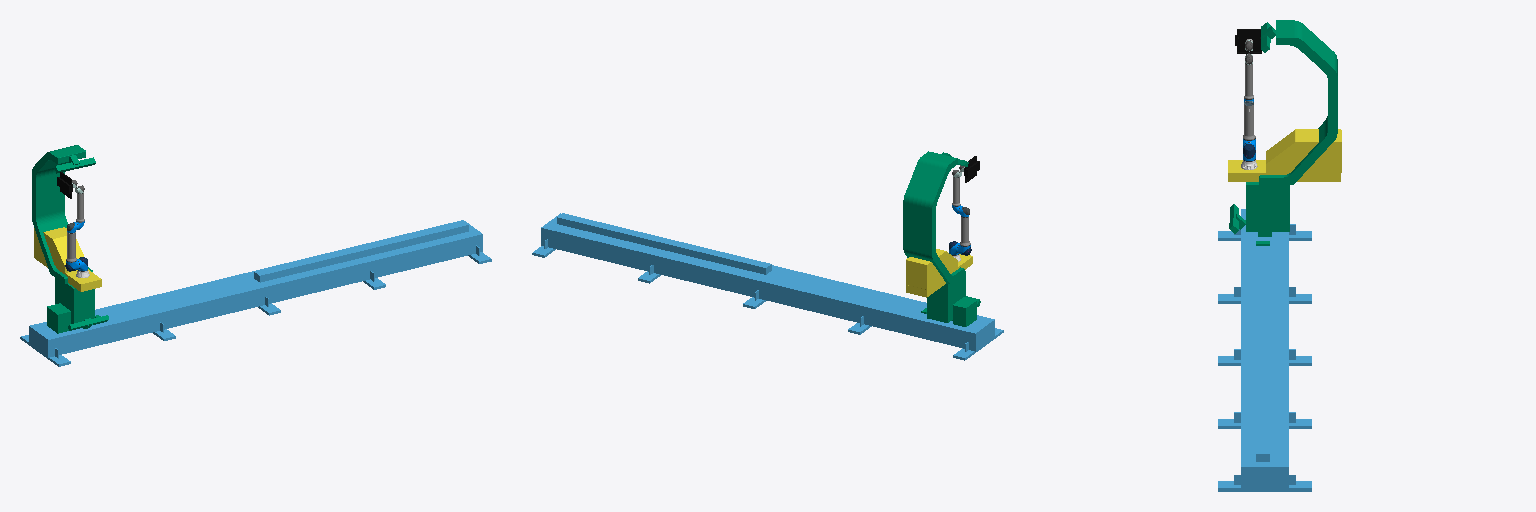
URDF robot description (dda_rb10_1300e):
<?xml version='1.0' encoding='utf-8'?>
<robot name="dda_rb10_1300e">
  <link name="dda_link_base" />
  <link name="dda_link_linear_track">
    <visual>
      <origin xyz="1.36424e-15 4.09273e-15 0.161" rpy="4.75452e-30 0 -1.22465e-16" />
      <geometry>
        <box size="7.208 0.56 0.282" />
      </geometry>
    </visual>
    <collision>
      <origin xyz="1.36424e-15 4.09273e-15 0.161" rpy="4.75452e-30 0 -1.22465e-16" />
      <geometry>
        <box size="7.208 0.56 0.282" />
      </geometry>
    </collision>
    <visual>
      <origin xyz="-3.489 1.36424e-15 -1.74094e-15" rpy="4.75452e-30 0 -1.22465e-16" />
      <geometry>
        <box size="0.2 1.1 0.04" />
      </geometry>
    </visual>
    <collision>
      <origin xyz="-3.489 1.36424e-15 -1.74094e-15" rpy="4.75452e-30 0 -1.22465e-16" />
      <geometry>
        <box size="0.2 1.1 0.04" />
      </geometry>
    </collision>
    <visual>
      <origin xyz="-1.7445 9.09495e-16 -7.50906e-16" rpy="4.75452e-30 0 -1.22465e-16" />
      <geometry>
        <box size="0.2 1.1 0.04" />
      </geometry>
    </visual>
    <collision>
      <origin xyz="-1.7445 9.09495e-16 -7.50906e-16" rpy="4.75452e-30 0 -1.22465e-16" />
      <geometry>
        <box size="0.2 1.1 0.04" />
      </geometry>
    </collision>
    <visual>
      <origin xyz="3.35376e-15 0 -7.48527e-16" rpy="4.75452e-30 0 -1.22465e-16" />
      <geometry>
        <box size="0.2 1.1 0.04" />
      </geometry>
    </visual>
    <collision>
      <origin xyz="3.35376e-15 0 -7.48527e-16" rpy="4.75452e-30 0 -1.22465e-16" />
      <geometry>
        <box size="0.2 1.1 0.04" />
      </geometry>
    </collision>
    <visual>
      <origin xyz="1.7445 -9.09495e-16 -5.93382e-16" rpy="4.75452e-30 0 -1.22465e-16" />
      <geometry>
        <box size="0.2 1.1 0.04" />
      </geometry>
    </visual>
    <collision>
      <origin xyz="1.7445 -9.09495e-16 -5.93382e-16" rpy="4.75452e-30 0 -1.22465e-16" />
      <geometry>
        <box size="0.2 1.1 0.04" />
      </geometry>
    </collision>
    <visual>
      <origin xyz="3.489 -9.09495e-16 9.40989e-15" rpy="4.75452e-30 0 -1.22465e-16" />
      <geometry>
        <box size="0.2 1.1 0.04" />
      </geometry>
    </visual>
    <collision>
      <origin xyz="3.489 -9.09495e-16 9.40989e-15" rpy="4.75452e-30 0 -1.22465e-16" />
      <geometry>
        <box size="0.2 1.1 0.04" />
      </geometry>
    </collision>
    <visual>
      <origin xyz="-3.489 -2.4329e-14 0.085" rpy="1.5708 0 -4.56336e-15" />
      <geometry>
        <box size="0.015 0.13 0.74" />
      </geometry>
    </visual>
    <collision>
      <origin xyz="-3.489 -2.4329e-14 0.085" rpy="1.5708 0 -4.56336e-15" />
      <geometry>
        <box size="0.015 0.13 0.74" />
      </geometry>
    </collision>
    <visual>
      <origin xyz="-1.7445 -1.72804e-14 0.085" rpy="1.5708 0 -4.56336e-15" />
      <geometry>
        <box size="0.015 0.13 0.74" />
      </geometry>
    </visual>
    <collision>
      <origin xyz="-1.7445 -1.72804e-14 0.085" rpy="1.5708 0 -4.56336e-15" />
      <geometry>
        <box size="0.015 0.13 0.74" />
      </geometry>
    </collision>
    <visual>
      <origin xyz="5.79803e-15 -2.52385e-14 0.085" rpy="1.5708 0 -4.56336e-15" />
      <geometry>
        <box size="0.015 0.13 0.74" />
      </geometry>
    </visual>
    <collision>
      <origin xyz="5.79803e-15 -2.52385e-14 0.085" rpy="1.5708 0 -4.56336e-15" />
      <geometry>
        <box size="0.015 0.13 0.74" />
      </geometry>
    </collision>
    <visual>
      <origin xyz="1.7445 -3.31966e-14 0.085" rpy="1.5708 0 -4.56336e-15" />
      <geometry>
        <box size="0.015 0.13 0.74" />
      </geometry>
    </visual>
    <collision>
      <origin xyz="1.7445 -3.31966e-14 0.085" rpy="1.5708 0 -4.56336e-15" />
      <geometry>
        <box size="0.015 0.13 0.74" />
      </geometry>
    </collision>
    <visual>
      <origin xyz="3.489 -4.1382e-14 0.085" rpy="1.5708 0 -4.56336e-15" />
      <geometry>
        <box size="0.015 0.13 0.74" />
      </geometry>
    </visual>
    <collision>
      <origin xyz="3.489 -4.1382e-14 0.085" rpy="1.5708 0 -4.56336e-15" />
      <geometry>
        <box size="0.015 0.13 0.74" />
      </geometry>
    </collision>
    <visual>
      <origin xyz="-1.7317 0.025 0.245" rpy="-1.5708 0 1.45473e-15" />
      <geometry>
        <box size="3.4624 0.33 0.165" />
      </geometry>
    </visual>
    <collision>
      <origin xyz="-1.7317 0.025 0.245" rpy="-1.5708 0 1.45473e-15" />
      <geometry>
        <box size="3.4624 0.33 0.165" />
      </geometry>
    </collision>
  </link>
  <link name="dda_link_carriage">
    <visual>
      <origin xyz="-7.95808e-16 0.0125 -2.27374e-16" rpy="1.5708 7.88908e-15 -3.14159" />
      <geometry>
        <box size="0.8 0.52 0.025" />
      </geometry>
    </visual>
    <collision>
      <origin xyz="-7.95808e-16 0.0125 -2.27374e-16" rpy="1.5708 7.88908e-15 -3.14159" />
      <geometry>
        <box size="0.8 0.52 0.025" />
      </geometry>
    </collision>
    <visual>
      <origin xyz="-0.35975 0.063 -0.025" rpy="1.5708 7.88908e-15 -3.14159" />
      <geometry>
        <box size="0.0805 0.165 0.076" />
      </geometry>
    </visual>
    <collision>
      <origin xyz="-0.35975 0.063 -0.025" rpy="1.5708 7.88908e-15 -3.14159" />
      <geometry>
        <box size="0.0805 0.165 0.076" />
      </geometry>
    </collision>
    <visual>
      <origin xyz="0.289 0.201 9.09495e-15" rpy="1.5708 7.88908e-15 -3.14159" />
      <geometry>
        <box size="0.226 0.3245 0.352" />
      </geometry>
    </visual>
    <collision>
      <origin xyz="0.289 0.201 9.09495e-15" rpy="1.5708 7.88908e-15 -3.14159" />
      <geometry>
        <box size="0.226 0.3245 0.352" />
      </geometry>
    </collision>
    <visual>
      <origin xyz="-1.25056e-15 0.09 -3.18323e-15" rpy="1.5708 7.88908e-15 -3.14159" />
      <geometry>
        <box size="0.33 0.16 0.102" />
      </geometry>
    </visual>
    <collision>
      <origin xyz="-1.25056e-15 0.09 -3.18323e-15" rpy="1.5708 7.88908e-15 -3.14159" />
      <geometry>
        <box size="0.33 0.16 0.102" />
      </geometry>
    </collision>
    <visual>
      <origin xyz="-1.21645e-14 0.4515 0.035" rpy="1.5708 7.88908e-15 -3.14159" />
      <geometry>
        <box size="0.352 0.53 0.621" />
      </geometry>
    </visual>
    <collision>
      <origin xyz="-1.21645e-14 0.4515 0.035" rpy="1.5708 7.88908e-15 -3.14159" />
      <geometry>
        <box size="0.352 0.53 0.621" />
      </geometry>
    </collision>
    <visual>
      <origin xyz="0.0107325 2.63285 0.0521338" rpy="0.0054756 -0.680086 -1.5708" />
      <geometry>
        <box size="0.1 0.0953271 0.145436" />
      </geometry>
    </visual>
    <collision>
      <origin xyz="0.0107325 2.63285 0.0521338" rpy="0.0054756 -0.680086 -1.5708" />
      <geometry>
        <box size="0.1 0.0953271 0.145436" />
      </geometry>
    </collision>
    <visual>
      <origin xyz="0.0157407 2.58451 0.00994251" rpy="-3.12431 -0.680086 -1.5708" />
      <geometry>
        <box size="0.0679 0.627868 0.0901768" />
      </geometry>
    </visual>
    <collision>
      <origin xyz="0.0157407 2.58451 0.00994251" rpy="-3.12431 -0.680086 -1.5708" />
      <geometry>
        <box size="0.0679 0.627868 0.0901768" />
      </geometry>
    </collision>
    <visual>
      <origin xyz="0.000232483 0.198227 -0.307389" rpy="0.0054756 0.757225 -1.5708" />
      <geometry>
        <box size="0.1 0.0953271 0.145436" />
      </geometry>
    </visual>
    <collision>
      <origin xyz="0.000232483 0.198227 -0.307389" rpy="0.0054756 0.757225 -1.5708" />
      <geometry>
        <box size="0.1 0.0953271 0.145436" />
      </geometry>
    </collision>
    <visual>
      <origin xyz="0.00524071 0.23361 -0.360911" rpy="-3.12431 0.757225 -1.5708" />
      <geometry>
        <box size="0.0679 0.627868 0.0901768" />
      </geometry>
    </visual>
    <collision>
      <origin xyz="0.00524071 0.23361 -0.360911" rpy="-3.12431 0.757225 -1.5708" />
      <geometry>
        <box size="0.0679 0.627868 0.0901768" />
      </geometry>
    </collision>
    <visual>
      <origin xyz="-0.673122 -0.257 -1.5" rpy="1.5708 7.88908e-15 -3.14159" />
      <geometry>
        <mesh filename="meshes/slab_0_1_1_349_ccfc56fc.stl" scale="0.001 0.001 0.001" />
      </geometry>
    </visual>
    <collision>
      <origin xyz="-0.673122 -0.257 -1.5" rpy="1.5708 7.88908e-15 -3.14159" />
      <geometry>
        <mesh filename="meshes/slab_0_1_1_349_ccfc56fc.stl" scale="0.001 0.001 0.001" />
      </geometry>
    </collision>
  </link>
  <link name="dda_link_slide">
    <visual>
      <origin xyz="-0.66625 0.05775 -0.00325" rpy="1.5708 -5.36832e-16 -3.14159" />
      <geometry>
        <box size="1.3315 0.3515 0.1225" />
      </geometry>
    </visual>
    <collision>
      <origin xyz="-0.66625 0.05775 -0.00325" rpy="1.5708 -5.36832e-16 -3.14159" />
      <geometry>
        <box size="1.3315 0.3515 0.1225" />
      </geometry>
    </collision>
    <visual>
      <origin xyz="-1.9768 1.167 -0.677622" rpy="1.5708 1.5708 0" />
      <geometry>
        <mesh filename="meshes/slab_0_1_1_720_212c22b0.stl" scale="0.001 0.001 0.001" />
      </geometry>
    </visual>
    <collision>
      <origin xyz="-1.9768 1.167 -0.677622" rpy="1.5708 1.5708 0" />
      <geometry>
        <mesh filename="meshes/slab_0_1_1_720_212c22b0.stl" scale="0.001 0.001 0.001" />
      </geometry>
    </collision>
  </link>
  <link name="dda_link0">
    <visual>
      <geometry>
        <mesh filename="meshes/rb10_1300e/visual/link0.dae" />
      </geometry>
    </visual>
    <collision>
      <geometry>
        <mesh filename="meshes/rb10_1300e/collision/link0.stl" />
      </geometry>
    </collision>
  </link>
  <link name="dda_link1">
    <visual>
      <geometry>
        <mesh filename="meshes/rb10_1300e/visual/link1.dae" />
      </geometry>
    </visual>
    <collision>
      <geometry>
        <mesh filename="meshes/rb10_1300e/collision/link1.stl" />
      </geometry>
    </collision>
  </link>
  <link name="dda_link2">
    <visual>
      <geometry>
        <mesh filename="meshes/rb10_1300e/visual/link2.dae" />
      </geometry>
    </visual>
    <collision>
      <geometry>
        <mesh filename="meshes/rb10_1300e/collision/link2.stl" />
      </geometry>
    </collision>
  </link>
  <link name="dda_link3">
    <visual>
      <geometry>
        <mesh filename="meshes/rb10_1300e/visual/link3.dae" />
      </geometry>
    </visual>
    <collision>
      <geometry>
        <mesh filename="meshes/rb10_1300e/collision/link3.stl" />
      </geometry>
    </collision>
  </link>
  <link name="dda_link4">
    <visual>
      <geometry>
        <mesh filename="meshes/rb10_1300e/visual/link4.dae" />
      </geometry>
    </visual>
    <collision>
      <geometry>
        <mesh filename="meshes/rb10_1300e/collision/link4.stl" />
      </geometry>
    </collision>
  </link>
  <link name="dda_link5">
    <visual>
      <geometry>
        <mesh filename="meshes/rb10_1300e/visual/link5.dae" />
      </geometry>
    </visual>
    <collision>
      <geometry>
        <mesh filename="meshes/rb10_1300e/collision/link5.stl" />
      </geometry>
    </collision>
  </link>
  <link name="dda_link6">
    <visual>
      <geometry>
        <mesh filename="meshes/rb10_1300e/visual/link6.dae" />
      </geometry>
    </visual>
    <collision>
      <geometry>
        <mesh filename="meshes/rb10_1300e/collision/link6.stl" />
      </geometry>
    </collision>
  </link>
  <link name="dda_link_end">
    <visual>
      <origin xyz="0 0 0" rpy="0 0 0" />
      <geometry>
        <mesh filename="meshes/tool_dda_visual.stl" />
      </geometry>
      <material name="tool_black">
        <color rgba="0.1 0.1 0.1 1" />
      </material>
    </visual>
    <collision>
      <origin xyz="0 0 0" rpy="0 0 0" />
      <geometry>
        <mesh filename="meshes/tool_dda.stl" />
      </geometry>
    </collision>
  </link>
  <joint name="dda_joint_rail_mount" type="fixed">
    <origin xyz="0.32245 1.5 0.03" rpy="0 0 3.14159" />
    <parent link="dda_link_base" />
    <child link="dda_link_linear_track" />
  </joint>
  <joint name="dda_joint_linear_track" type="prismatic">
    <origin xyz="2.979 0 0.227" rpy="1.5708 0 0" />
    <parent link="dda_link_linear_track" />
    <child link="dda_link_carriage" />
    <axis xyz="-1 0 0" />
    <limit lower="0" upper="4.87" effort="1000.0" velocity="1.0" />
  </joint>
  <joint name="dda_joint_carriage" type="prismatic">
    <origin xyz="0.0045 0.91 0.9" rpy="0 -1.57079265 -3.14159" />
    <parent link="dda_link_carriage" />
    <child link="dda_link_slide" />
    <axis xyz="-1 0 0" />
    <limit lower="0" upper="0.7" effort="1000.0" velocity="1.0" />
  </joint>
  <joint name="dda_joint_mount" type="fixed">
    <origin xyz="-1.08599939 -0.00354128091 -0.00450024731" rpy="-1.57079367 3.67321484e-06 3.14158898" />
    <parent link="dda_link_slide" />
    <child link="dda_link0" />
  </joint>
  <joint name="dda_joint_base" type="revolute">
    <origin rpy="0 0 0" xyz="0 0 0" />
    <parent link="dda_link0" />
    <child link="dda_link1" />
    <axis xyz="0 0 1" />
    <limit effort="10" lower="-3.14" upper="3.14" velocity="3.14" />
  </joint>
  <joint name="dda_joint_shoulder" type="revolute">
    <origin rpy="0 0 0" xyz="0 0 0.197" />
    <parent link="dda_link1" />
    <child link="dda_link2" />
    <axis xyz="0 1 0" />
    <limit effort="10" lower="-3.14" upper="3.14" velocity="3.14" />
  </joint>
  <joint name="dda_joint_elbow" type="revolute">
    <origin rpy="0 0 0" xyz="0 -0.1875 0.6127" />
    <parent link="dda_link2" />
    <child link="dda_link3" />
    <axis xyz="0 1 0" />
    <limit effort="10" lower="-3.14" upper="3.14" velocity="3.14" />
  </joint>
  <joint name="dda_joint_wrist1" type="revolute">
    <origin rpy="0 0 0" xyz="0 0.1484 0.57015" />
    <parent link="dda_link3" />
    <child link="dda_link4" />
    <axis xyz="0 1 0" />
    <limit effort="10" lower="-3.14" upper="3.14" velocity="3.14" />
  </joint>
  <joint name="dda_joint_wrist2" type="revolute">
    <origin rpy="0 0 0" xyz="0 -0.11715 0" />
    <parent link="dda_link4" />
    <child link="dda_link5" />
    <axis xyz="0 0 1" />
    <limit effort="10" lower="-3.14" upper="3.14" velocity="3.14" />
  </joint>
  <joint name="dda_joint_wrist3" type="revolute">
    <origin rpy="0 0 0" xyz="0 0 0.11715" />
    <parent link="dda_link5" />
    <child link="dda_link6" />
    <axis xyz="0 1 0" />
    <limit effort="10" lower="-3.14" upper="3.14" velocity="3.14" />
  </joint>
  <joint name="dda_joint_end" type="fixed">
    <origin xyz="0.00450781579 -0.169365555 0.00228070346" rpy="0 1.57078735 -1.57079633" />
    <parent link="dda_link6" />
    <child link="dda_link_end" />
  </joint>
</robot>

--- Facts derived from the render (not from the file) ---
Views: 3 orthographic renders of the robot side by side, from view 1: azimuth 30°, elevation 25°; view 2: azimuth 150°, elevation 25°; view 3: azimuth 270°, elevation 25°.
Model dda_rb10_1300e with 12 links and 11 joints (6 revolute, 2 prismatic, 3 fixed), rooted at dda_link_base, posed all joints at 0.
Links seen in each view (by area): view 1: dda_link_linear_track, dda_link_carriage, dda_link_slide; view 2: dda_link_linear_track, dda_link_carriage, dda_link_slide; view 3: dda_link_linear_track, dda_link_carriage, dda_link_slide, dda_link_end.
Link boxes in pixels (box(x1,y1,x2,y2)): dda_link_linear_track: box(20, 220, 491, 366); dda_link_carriage: box(32, 145, 108, 333); dda_link_slide: box(34, 227, 101, 291); dda_link_linear_track: box(532, 213, 1003, 360); dda_link_carriage: box(903, 151, 980, 326); dda_link_slide: box(906, 249, 972, 297); dda_link_linear_track: box(1218, 209, 1311, 491); dda_link_carriage: box(1229, 20, 1337, 245); dda_link_slide: box(1228, 129, 1341, 181); dda_link_end: box(1235, 29, 1261, 53).
Bounding box of the posed robot: 7.21 × 1.45 × 2.96 m (x, y, z).
Meshes: 10 distinct files referenced, 9 mesh visuals loaded (3 binary STL, 6 Collada DAE); not drawn: 1 (reference not matched to a file when rendering).
